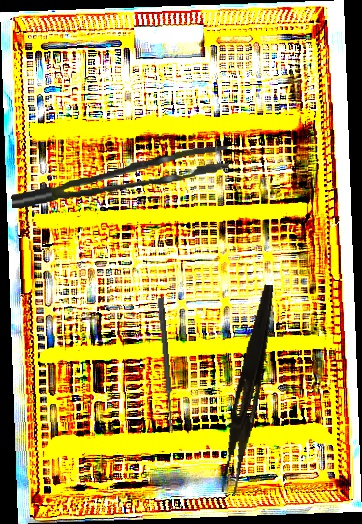Dressing Forceps: (219, 282, 278, 496)
Surgical Spoon: (156, 297, 176, 434)
Tissue Forceps: (8, 145, 232, 209)
